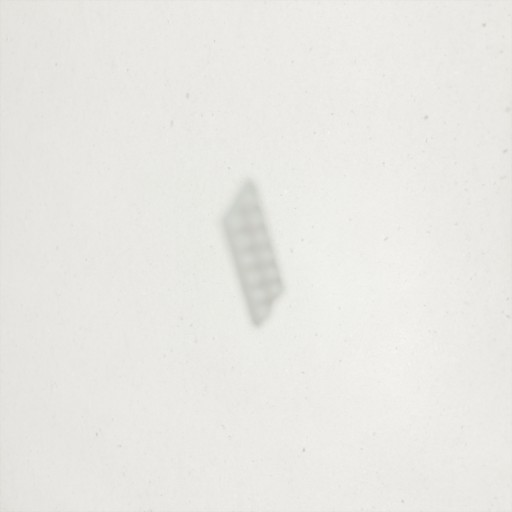lego: (217, 175, 287, 330)
